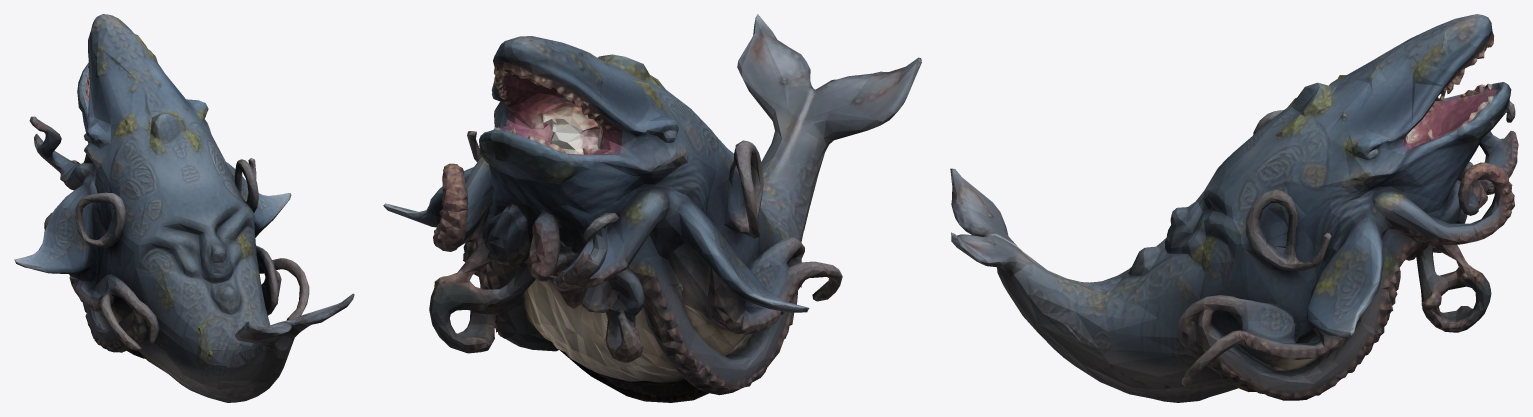
File: mawmotherOfTheDeep.glb
The picture shows the model from 3 angles, left to right: view 1: azimuth 30°, elevation 25°; view 2: azimuth 150°, elevation 25°; view 3: azimuth 270°, elevation 25°; orthographic projection. The views are drawn at different scales.
Visible parts, largest first — view 1: world; view 2: world; view 3: world.
Part boxes in pixels (bbox=[...]): world: bbox=[14, 14, 354, 402]; world: bbox=[383, 14, 921, 402]; world: bbox=[950, 14, 1518, 402].
Size of the model in its own units: 0.7344 by 0.7458 by 1.
Materials: 1 (1 with a texture image).
